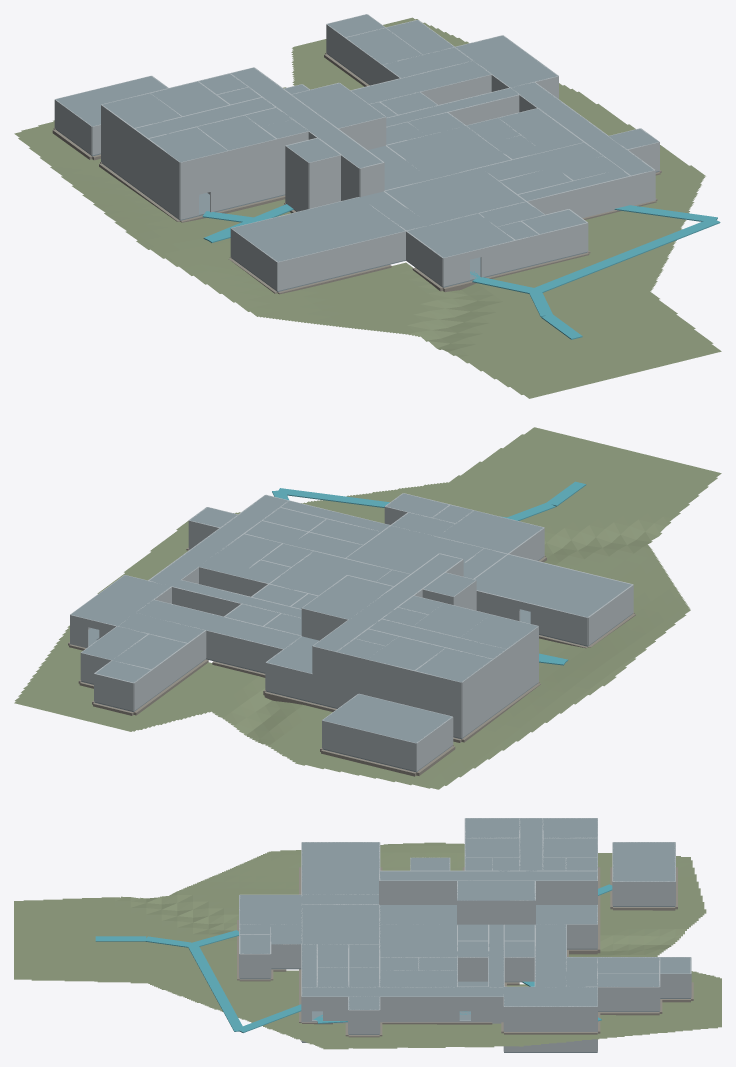
Rendered from open-circulation.glb.
3 views of the same model, one above another, from view 1: azimuth 30°, elevation 25°; view 2: azimuth 150°, elevation 25°; view 3: azimuth 270°, elevation 25° (orthographic). The views are drawn at different scales.
Parts seen in each view (by area): view 1: Saved editor macroterrain ASYLUM, Ceiling cap day, Ceiling cap dining, Wall day S, Ceiling cap treatment, Ceiling cap upper-spine, Ceiling cap service, Ceiling cap service-stair, Ceiling cap admission, Wall meal-return S, Ceiling cap service-link, Ceiling cap upper-stair (+52 smaller); view 2: Saved editor macroterrain ASYLUM, Ceiling cap day, Ceiling cap chapel, Ceiling cap dining, Ceiling cap upper-spine, Wall chapel N, Ceiling cap service, Ceiling cap service-link, Ceiling cap treatment, Ceiling cap service-stair, Ceiling cap admission, Ceiling cap upper-stair (+50 smaller); view 3: Saved editor macroterrain ASYLUM, Ceiling cap day, Flat route shell Wall service E, Ceiling cap dining, Ceiling cap treatment, Ceiling cap chapel, Wall service-stair E, Ceiling cap upper-spine, Ceiling cap service, Ceiling cap service-link, Wall upper-stair E, Flat route shell Wall upper-spine E.001 (+46 smaller).
Boxes of the visible parts, x1,y1,x2,y2 form: Saved editor macroterrain ASYLUM: (14,17,721,398); Ceiling cap day: (232,197,404,261); Ceiling cap dining: (385,168,525,224); Wall day S: (277,231,405,290); Ceiling cap treatment: (387,126,510,179); Ceiling cap upper-spine: (231,68,382,168); Ceiling cap service: (511,82,653,175); Ceiling cap service-stair: (455,35,557,87); Ceiling cap admission: (407,213,513,257); Wall meal-return S: (527,176,631,216); Ceiling cap service-link: (351,61,490,103); Ceiling cap upper-stair: (292,83,385,128); Saved editor macroterrain ASYLUM: (14,427,721,789); Ceiling cap day: (474,554,631,617); Ceiling cap chapel: (323,694,451,743); Ceiling cap dining: (346,526,483,573); Ceiling cap upper-spine: (313,554,461,651); Wall chapel N: (322,720,416,771); Ceiling cap service: (149,495,287,586); Ceiling cap service-link: (136,600,301,648); Ceiling cap treatment: (270,551,391,595); Ceiling cap service-stair: (71,575,170,626); Ceiling cap admission: (438,510,543,553); Ceiling cap upper-stair: (302,575,393,619); Saved editor macroterrain ASYLUM: (14,842,721,1049); Ceiling cap day: (302,842,379,894); Flat route shell Wall service E: (323,996,503,1020); Ceiling cap dining: (302,904,379,944); Ceiling cap treatment: (379,924,457,957); Ceiling cap chapel: (613,842,675,881); Wall service-stair E: (504,1006,597,1030); Ceiling cap upper-spine: (379,871,597,880); Ceiling cap service: (302,987,503,996); Ceiling cap service-link: (535,924,566,986); Wall upper-stair E: (457,900,535,924); Flat route shell Wall upper-spine E.001: (379,880,467,904).
Size of the model in its own units: 62 by 9.96 by 91.
